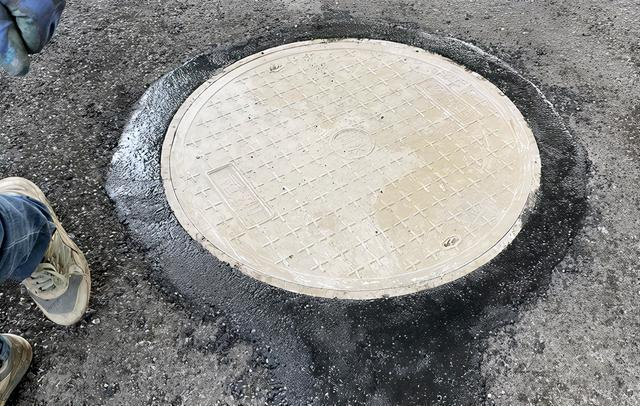good: (100, 14, 600, 363)
